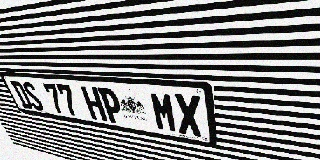7: (55, 84, 82, 117), (41, 83, 68, 115)
D: (9, 81, 34, 110)
H: (80, 86, 108, 122)
M: (149, 91, 178, 133)
P: (97, 87, 125, 124)
S: (20, 81, 46, 111)
X: (173, 93, 203, 137)
